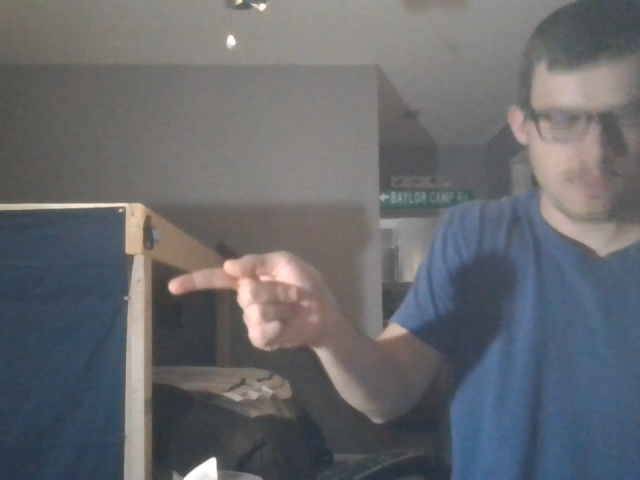G: (163, 250, 334, 376)
